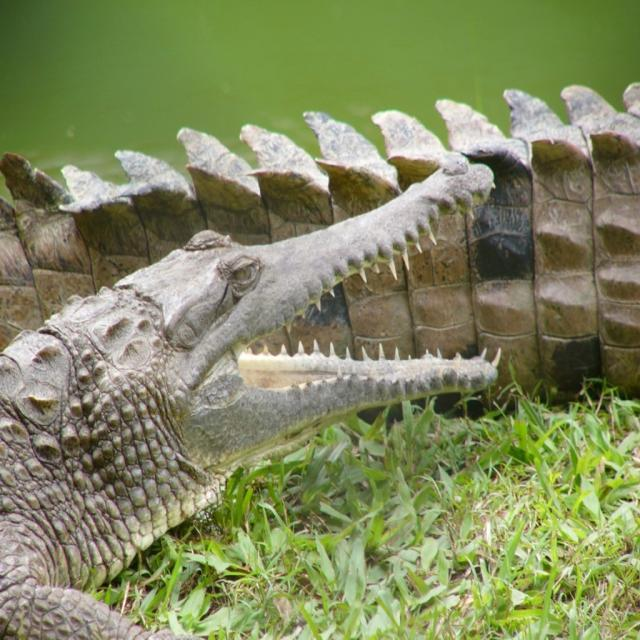crocodile: (0, 144, 546, 639)
